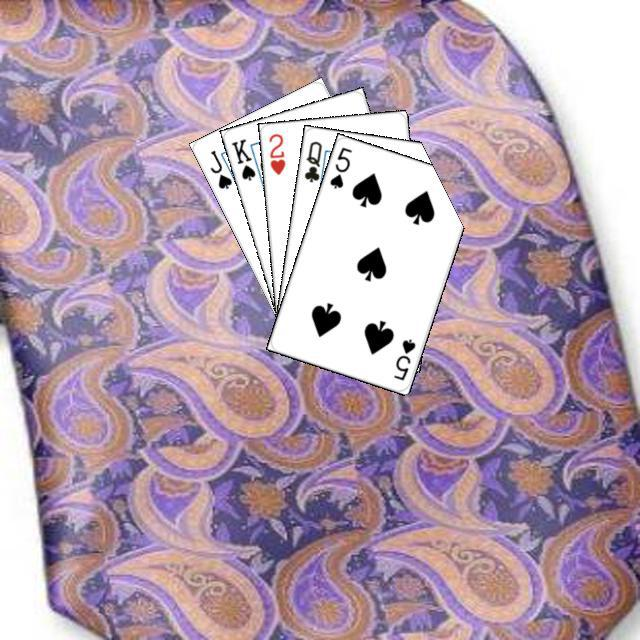2h: (264, 128, 287, 176)
5s: (325, 142, 354, 190), (389, 334, 417, 382)
Js: (205, 145, 234, 191)
Ks: (227, 134, 257, 182)
Qc: (299, 136, 330, 190)
